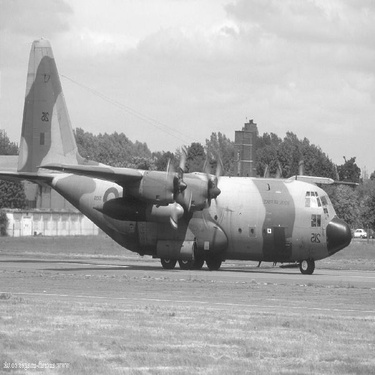airplane: (3, 27, 364, 287)
